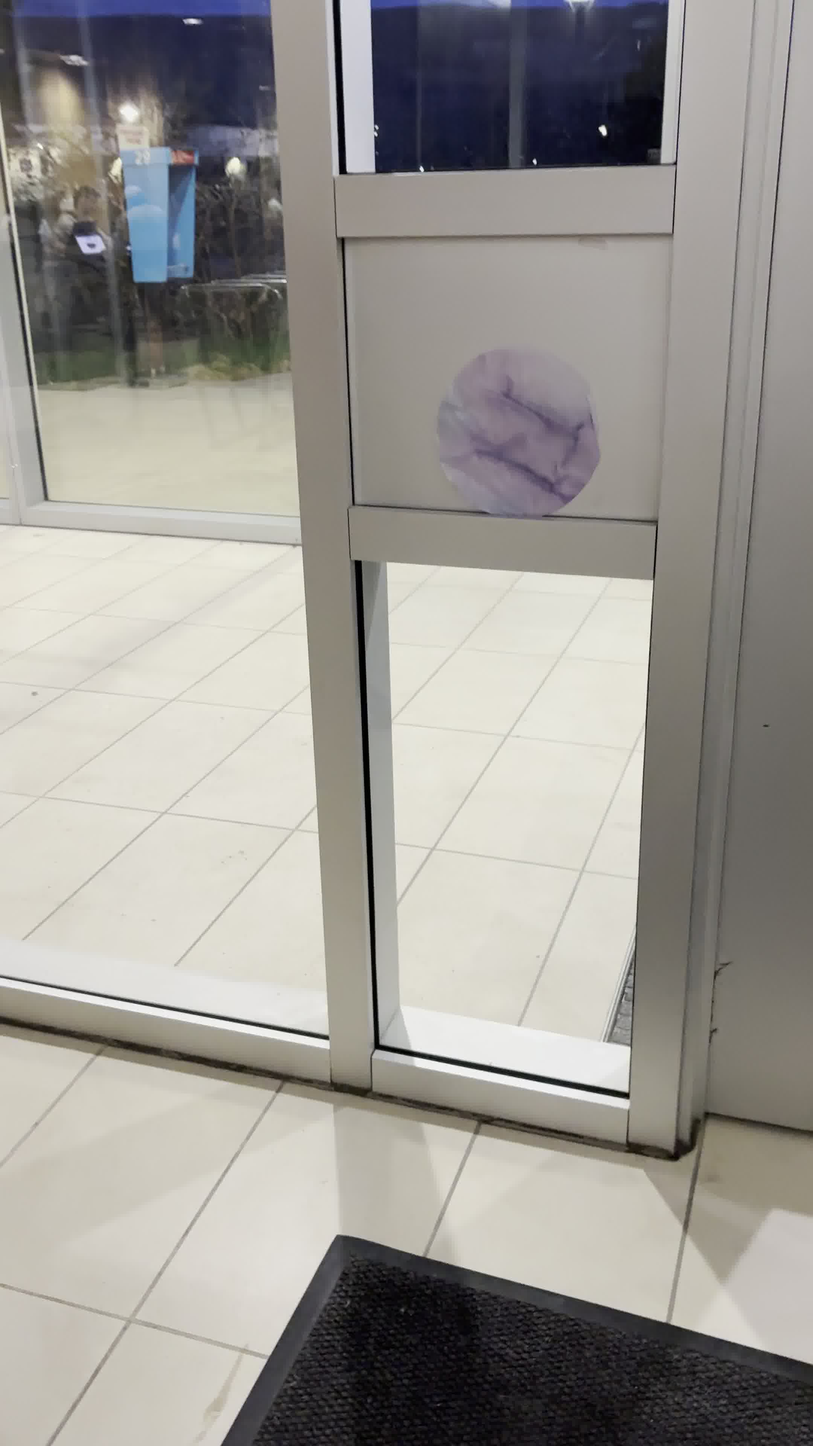Target: (432, 344, 604, 520)
